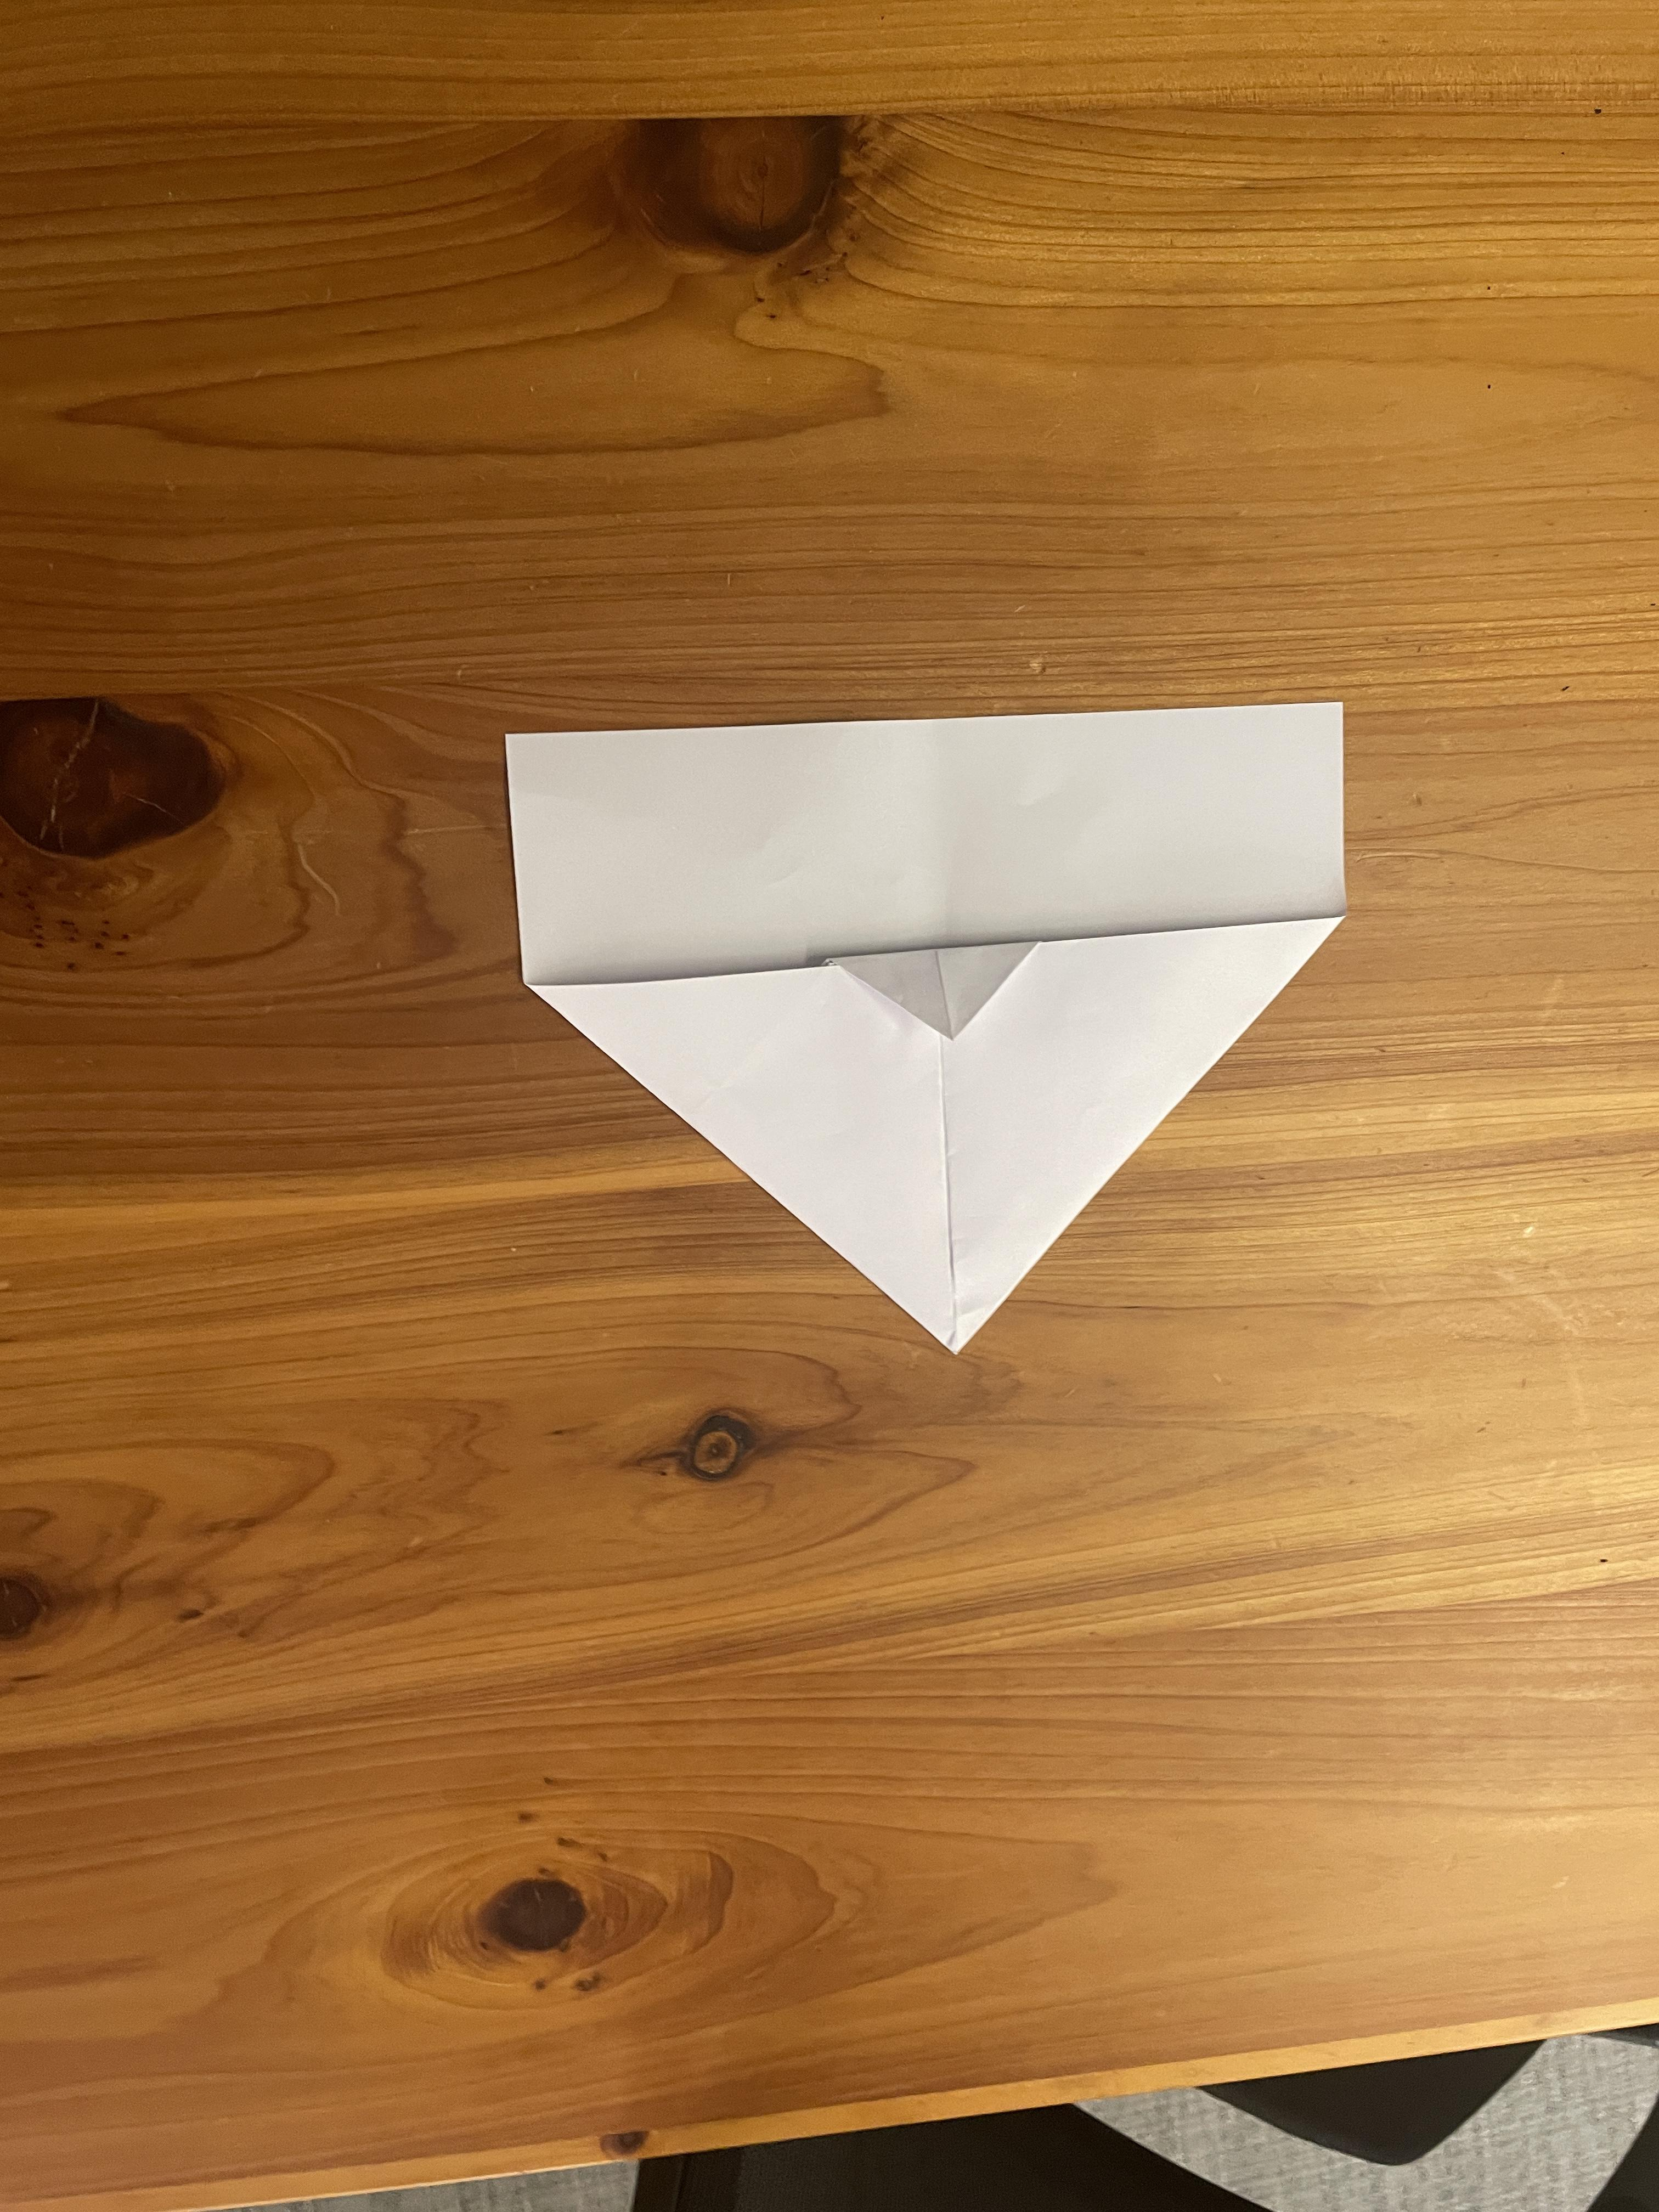shape_2: (411, 556, 1474, 1428)
